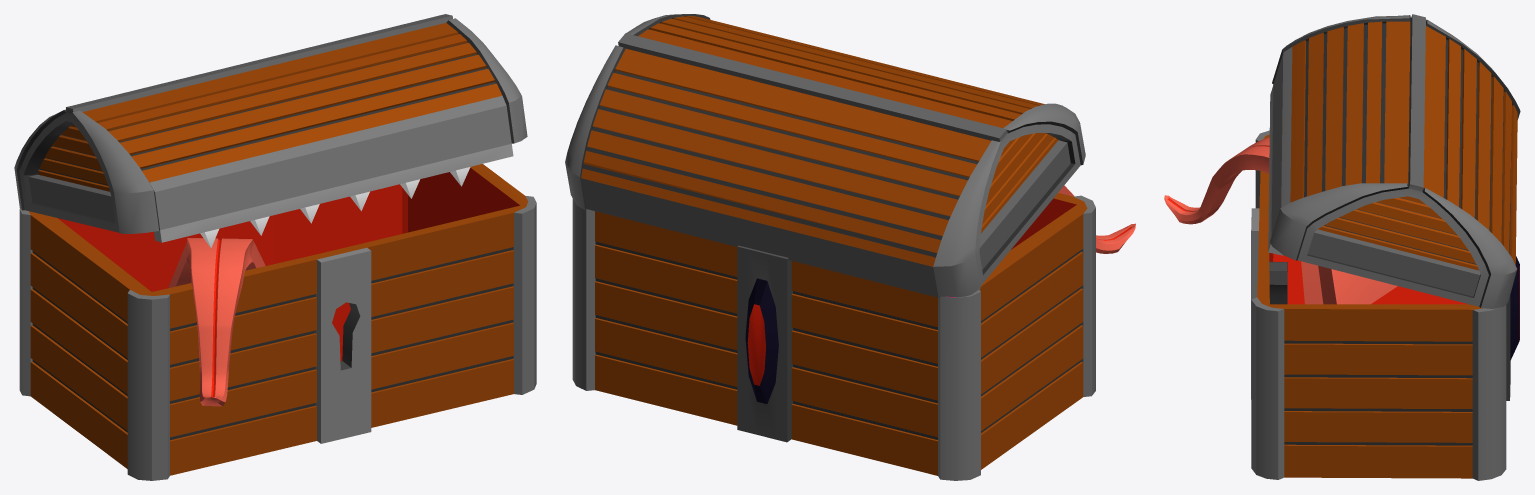
File: Mimic_Original.fbx
3 views of the same model, side by side, from view 1: azimuth 30°, elevation 25°; view 2: azimuth 150°, elevation 25°; view 3: azimuth 270°, elevation 25° (orthographic). The views are drawn at different scales.
Parts seen in each view (by area): view 1: Cube.001; view 2: Cube.001; view 3: Cube.001.
Boxes of the visible parts, x1=… form: Cube.001: x1=14, y1=14, x2=536, y2=480; Cube.001: x1=565, y1=14, x2=1135, y2=480; Cube.001: x1=1164, y1=14, x2=1520, y2=480.
Size of the model in its own units: 110 by 80.96 by 89.52.
2 materials, 2 textured.
